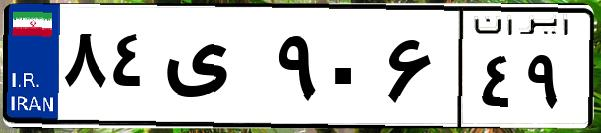0: (330, 28, 385, 110)
4: (475, 38, 525, 113), (110, 28, 158, 98)
6: (385, 28, 445, 110)
8: (57, 26, 110, 100)
9: (270, 28, 330, 110), (525, 38, 570, 115)
ی: (158, 20, 270, 120)
